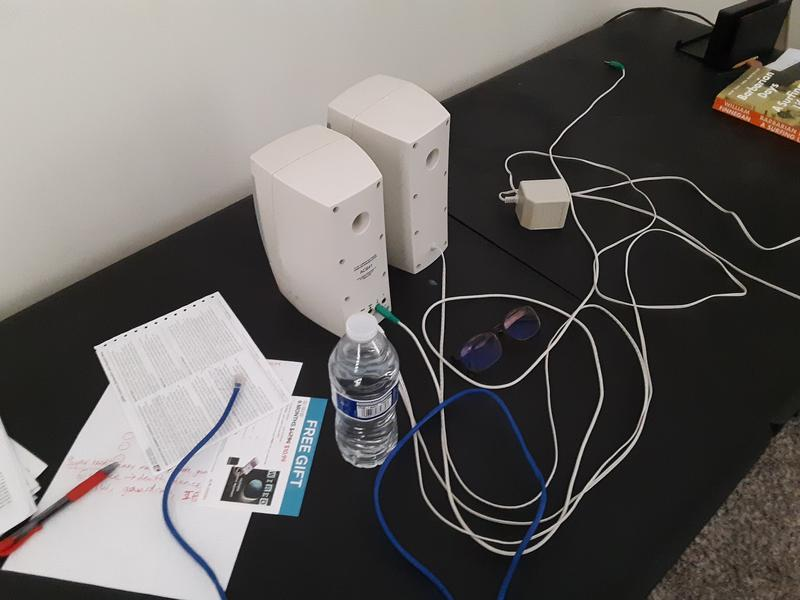glasses: (451, 302, 542, 375)
